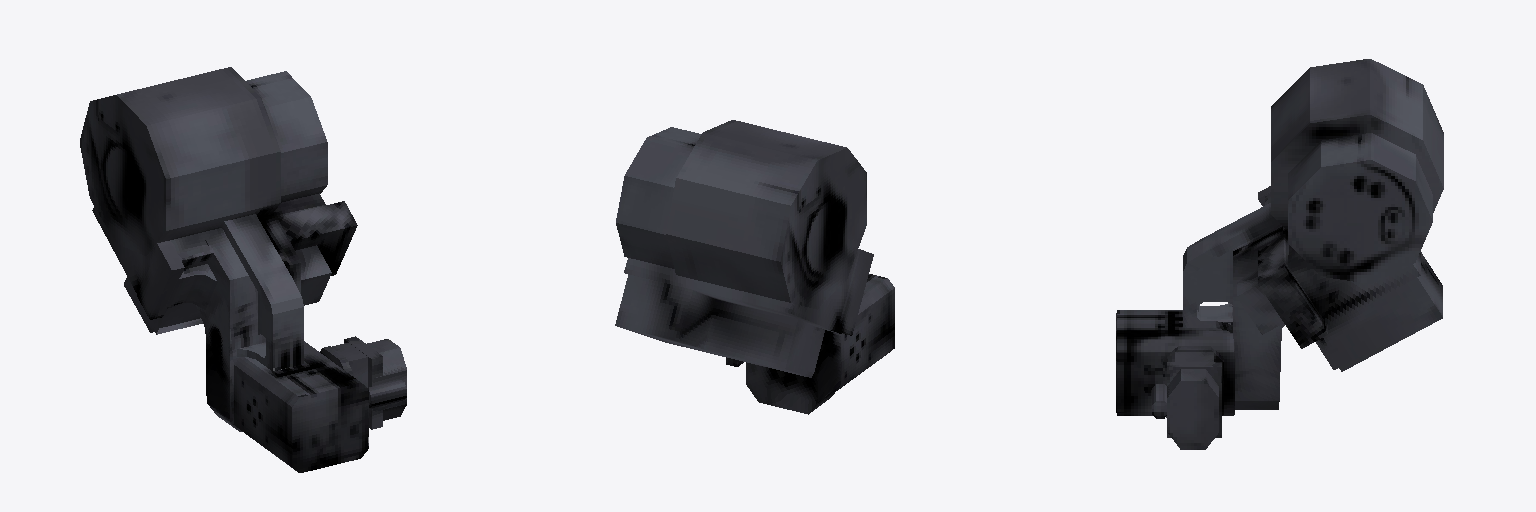
3 renders of one model, left to right at view 1: azimuth 30°, elevation 25°; view 2: azimuth 150°, elevation 25°; view 3: azimuth 270°, elevation 25°, orthographic.
Visible parts, largest first — view 1: l_clav; view 2: l_clav; view 3: l_clav.
Boxes of the visible parts, x1,y1,x2,y2 form: l_clav: [80, 67, 406, 472]; l_clav: [615, 120, 894, 414]; l_clav: [1116, 59, 1443, 449].
Size of the model in its own units: 0.1201 by 0.1828 by 0.1793.
Materials: 1 (1 with a texture image).